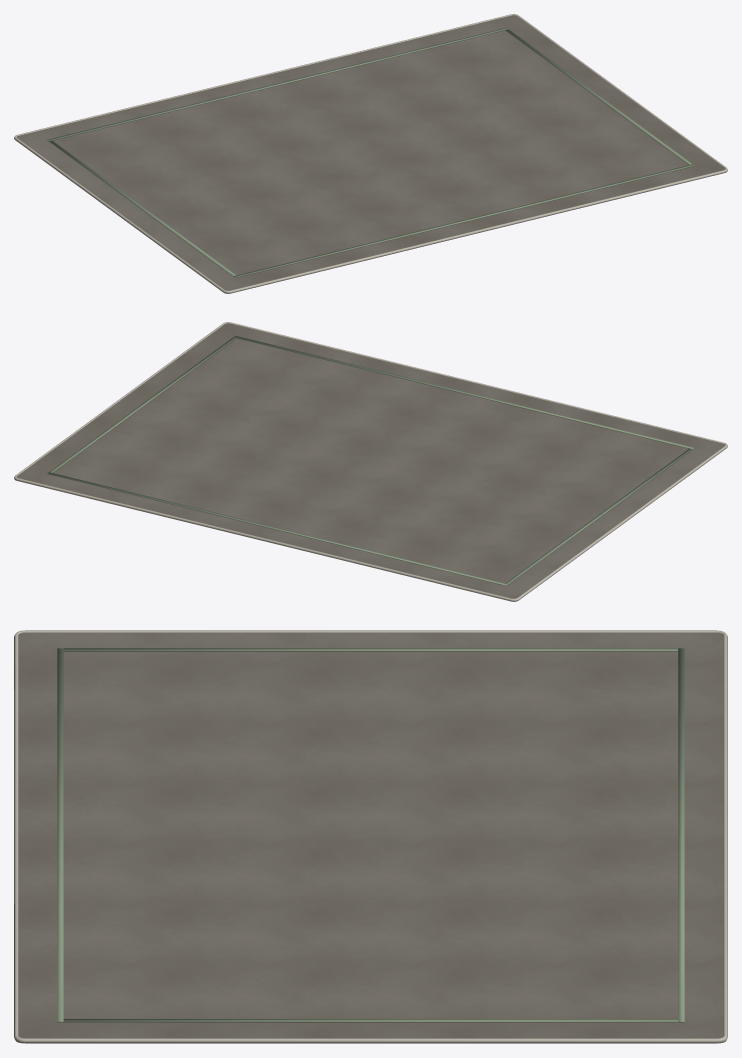
File: guest_rug.gltf
3 renders of one model, top to bottom at view 1: azimuth 30°, elevation 25°; view 2: azimuth 150°, elevation 25°; view 3: azimuth 270°, elevation 25°, orthographic. The views are drawn at different scales.
Visible parts, largest first — view 1: GuestRug_Body, GuestRug_Binding_Piping, GuestRug_LineS, GuestRug_LineN, GuestRug_LineE, GuestRug_LineW; view 2: GuestRug_Body, GuestRug_Binding_Piping, GuestRug_LineN, GuestRug_LineS, GuestRug_LineW, GuestRug_LineE; view 3: GuestRug_Body, GuestRug_Binding_Piping, GuestRug_LineN, GuestRug_LineS, GuestRug_LineW, GuestRug_LineE.
Boxes of the visible parts, left/top/right/bottom form: GuestRug_Body: left=16, top=15, right=727, bottom=293; GuestRug_Binding_Piping: left=14, top=14, right=727, bottom=293; GuestRug_LineS: left=233, top=164, right=694, bottom=277; GuestRug_LineN: left=47, top=28, right=507, bottom=141; GuestRug_LineE: left=505, top=29, right=692, bottom=164; GuestRug_LineW: left=49, top=140, right=236, bottom=276; GuestRug_Body: left=14, top=323, right=725, bottom=601; GuestRug_Binding_Piping: left=14, top=322, right=727, bottom=601; GuestRug_LineN: left=47, top=472, right=508, bottom=585; GuestRug_LineS: left=234, top=336, right=694, bottom=449; GuestRug_LineW: left=505, top=448, right=692, bottom=584; GuestRug_LineE: left=49, top=337, right=236, bottom=472; GuestRug_Body: left=15, top=632, right=726, bottom=1043; GuestRug_Binding_Piping: left=14, top=630, right=727, bottom=1043; GuestRug_LineN: left=678, top=648, right=684, bottom=1022; GuestRug_LineS: left=57, top=648, right=63, bottom=1022; GuestRug_LineW: left=63, top=648, right=678, bottom=651; GuestRug_LineE: left=63, top=1019, right=678, bottom=1022.
Bounding box in the file's own units: 3.41 × 0.017 × 2.51.
Materials: 3 (1 with a texture image).
